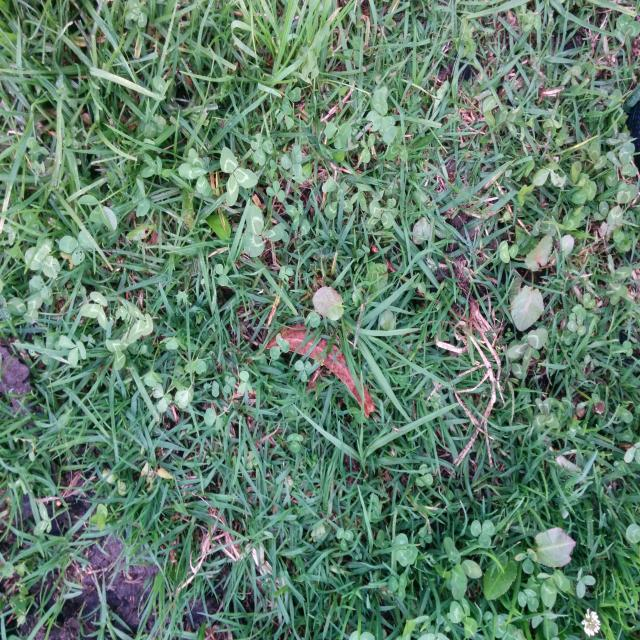Four Leaf Clover: (178, 148, 210, 196)
